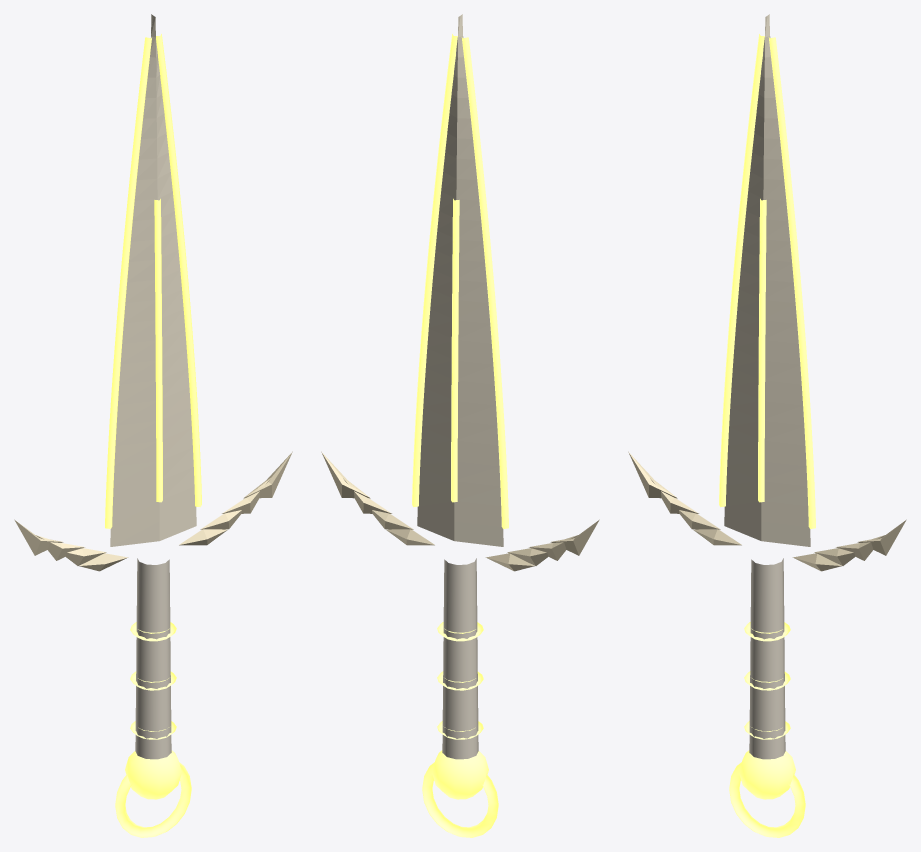
Rendered from dagger_7.glb.
3 renders of one model, left to right at view 1: azimuth 30°, elevation 25°; view 2: azimuth 150°, elevation 25°; view 3: azimuth 330°, elevation 25°, orthographic.
Visible parts, largest first — view 1: dagger_7; view 2: dagger_7; view 3: dagger_7.
Part boxes in pixels (x1,y1,x2,y2): dagger_7: (14,14,292,837); dagger_7: (321,14,599,837); dagger_7: (628,14,906,837).
Size of the model in its own units: 0.336 by 0.946 by 0.0571.
